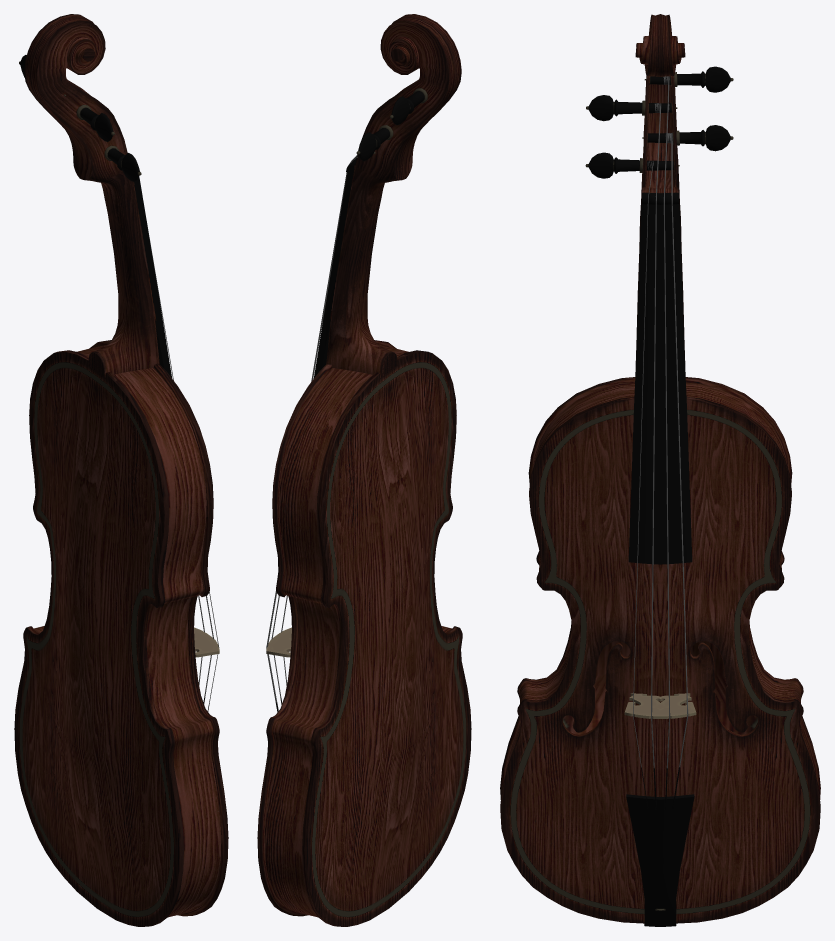
Rendered from violin.glb.
The picture shows the model from 3 angles, left to right: view 1: azimuth 30°, elevation 25°; view 2: azimuth 150°, elevation 25°; view 3: azimuth 270°, elevation 25°; orthographic projection. The views are drawn at different scales.
Visible parts, largest first — view 1: 1_low, 2_low, 3_low; view 2: 1_low, 2_low, 3_low; view 3: 1_low, 2_low, 3_low.
Boxes of the visible parts, x1,y1,x2,y2 form: 1_low: (14,340,228,926); 2_low: (24,14,219,657); 3_low: (19,55,219,711); 1_low: (257,340,471,926); 2_low: (266,14,461,657); 3_low: (266,88,427,712); 1_low: (500,377,820,923); 2_low: (624,14,696,926); 3_low: (585,66,733,809).
Bounding box in the file's own units: 0.5475 × 2.62 × 0.8708.
Materials: 1 (1 with a texture image).
